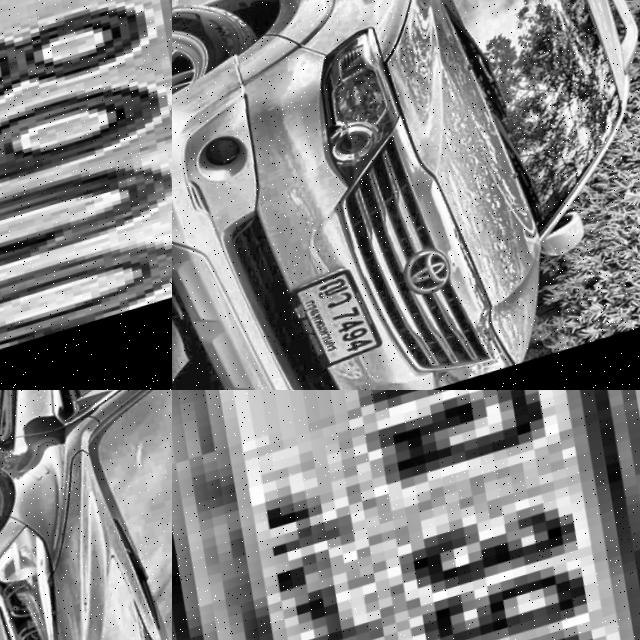license-plate: (172, 390, 640, 640), (0, 0, 172, 390), (279, 266, 402, 382)
